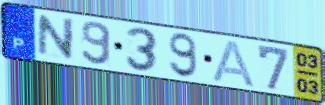3: (124, 26, 161, 73)
7: (255, 43, 290, 92)
9: (167, 31, 200, 80), (80, 21, 112, 68)
A: (211, 39, 257, 90)
N: (36, 14, 77, 62)
